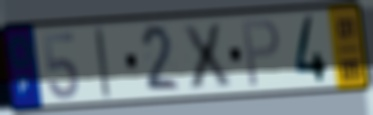2: (140, 22, 182, 98)
4: (293, 13, 330, 87)
5: (40, 30, 81, 101)
I: (92, 24, 113, 102)
P: (240, 17, 282, 90)
X: (179, 21, 235, 92)
